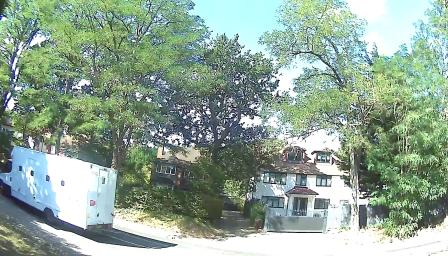Cars: (0, 145, 119, 231)
